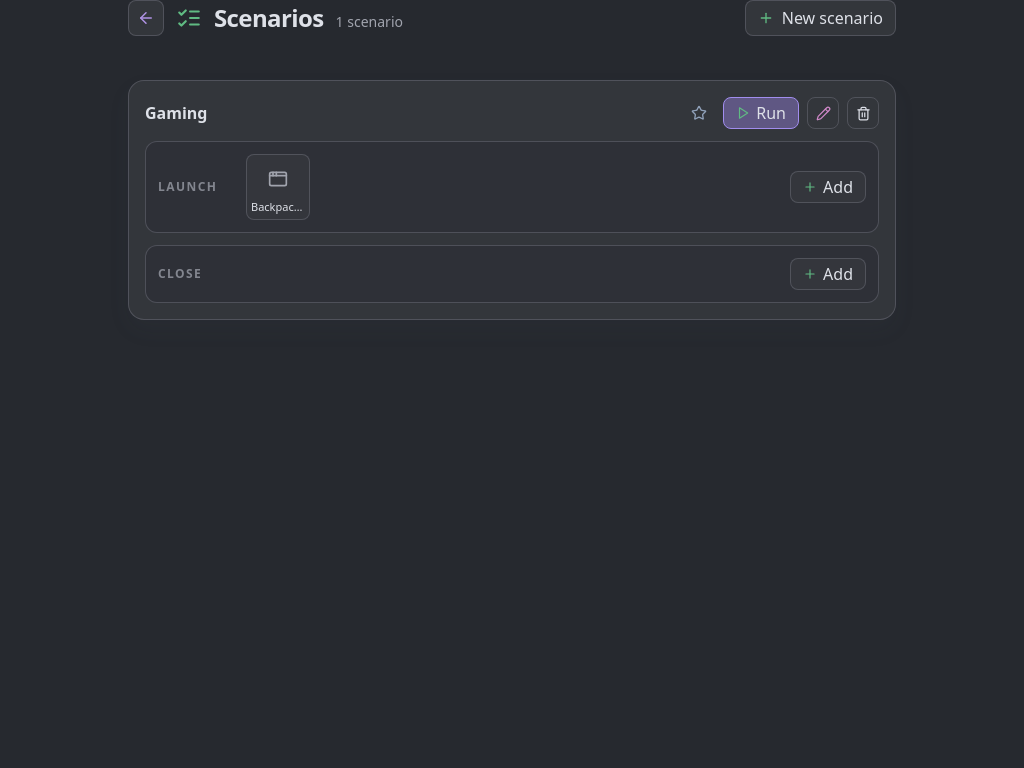
Test: ScenariosPage › leaves the list untouched when the warning is dismissed
Click the button "Add" in the row of "Close" at (828, 274), box [790,258,866,290]
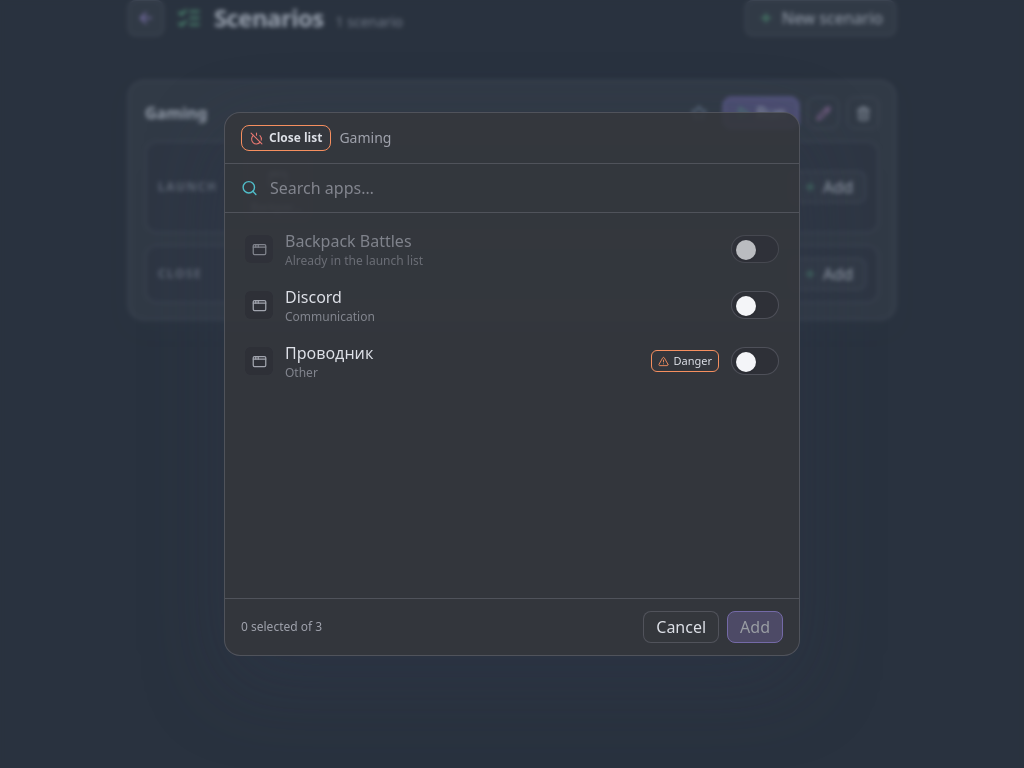
Click the switch labelled "Проводник Other Danger" at (329, 353), box [233,333,791,389]
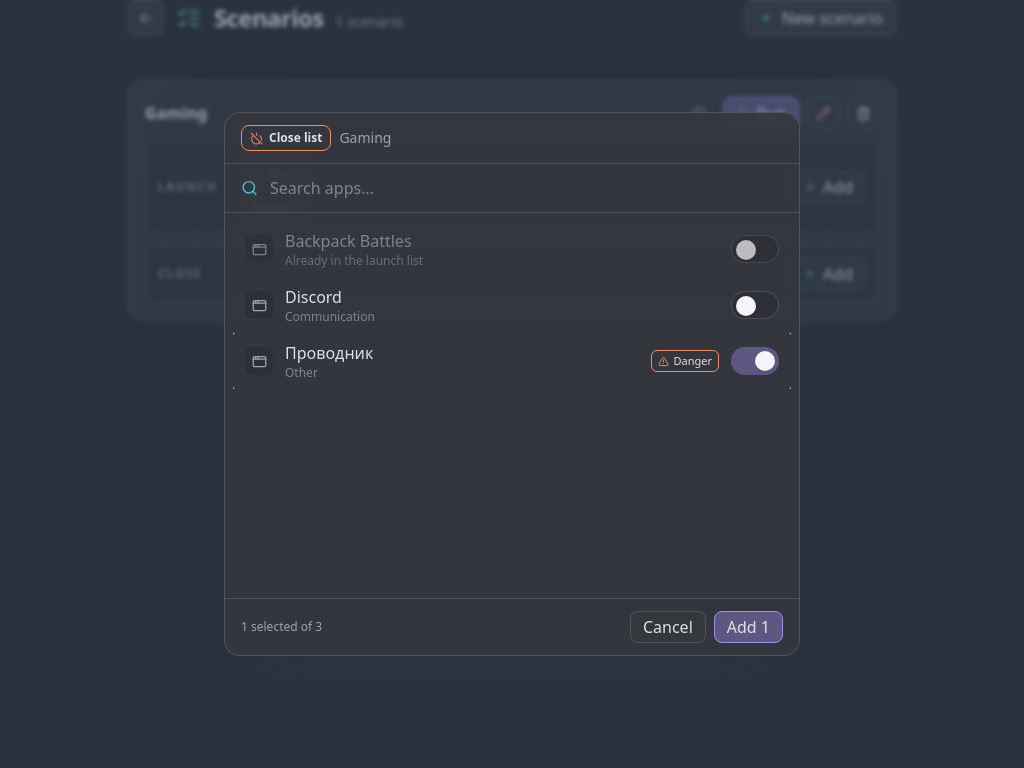
Click the button "Add 1" at (748, 627), box [714,611,783,643]
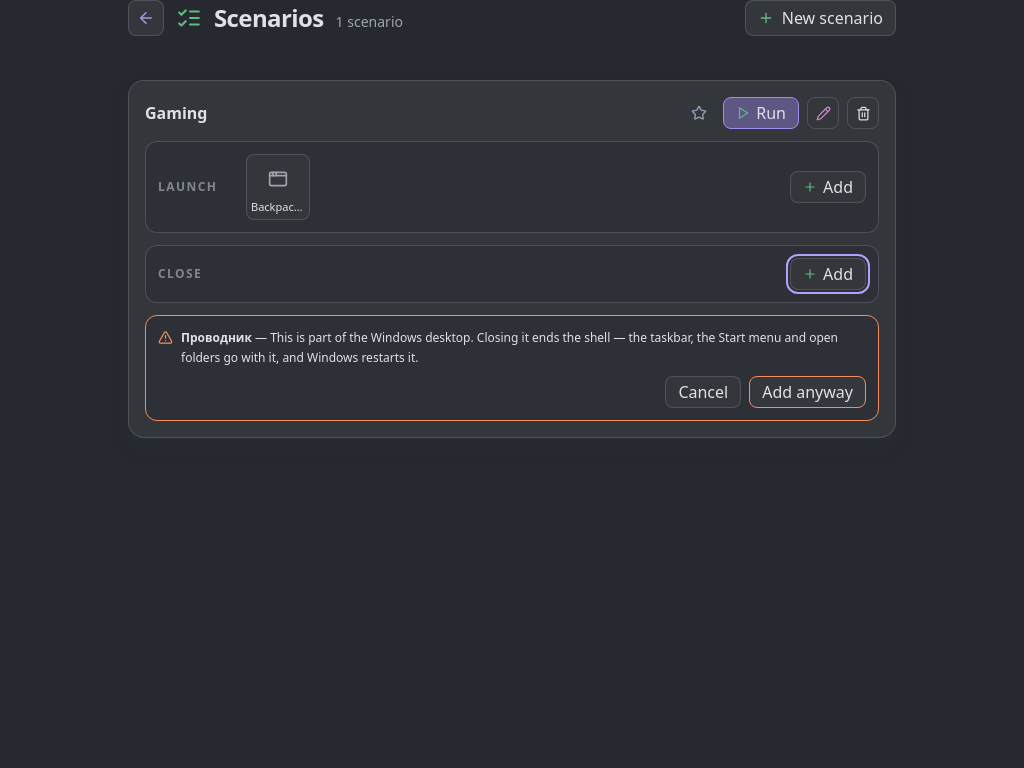
Click the button "Cancel" at (703, 392), box [665,376,741,408]
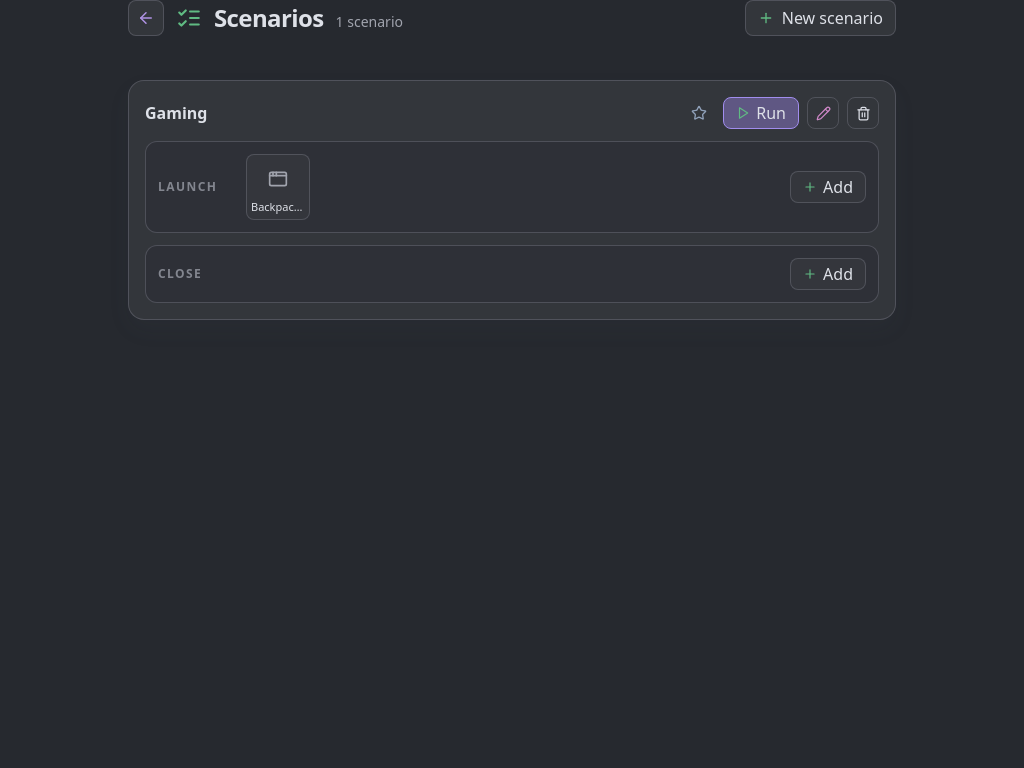
Result: the dialog is gone
